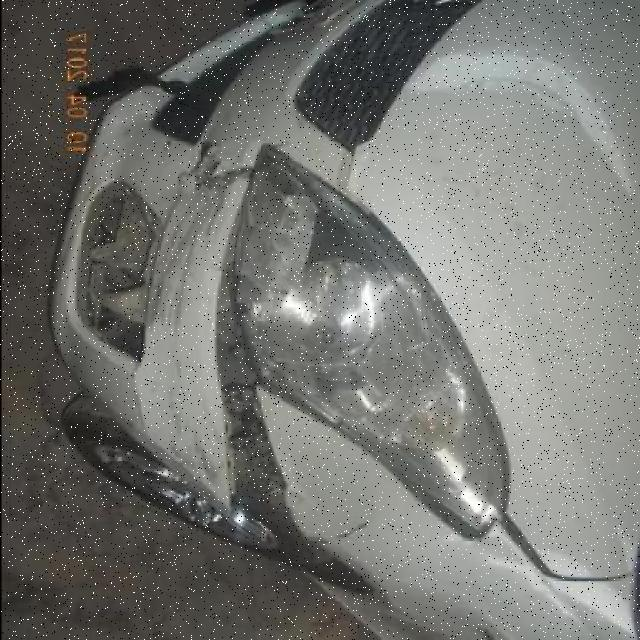damage: (261, 142, 505, 452), (212, 181, 302, 536), (74, 176, 159, 361), (141, 164, 225, 339), (166, 353, 214, 486), (183, 139, 252, 187)
